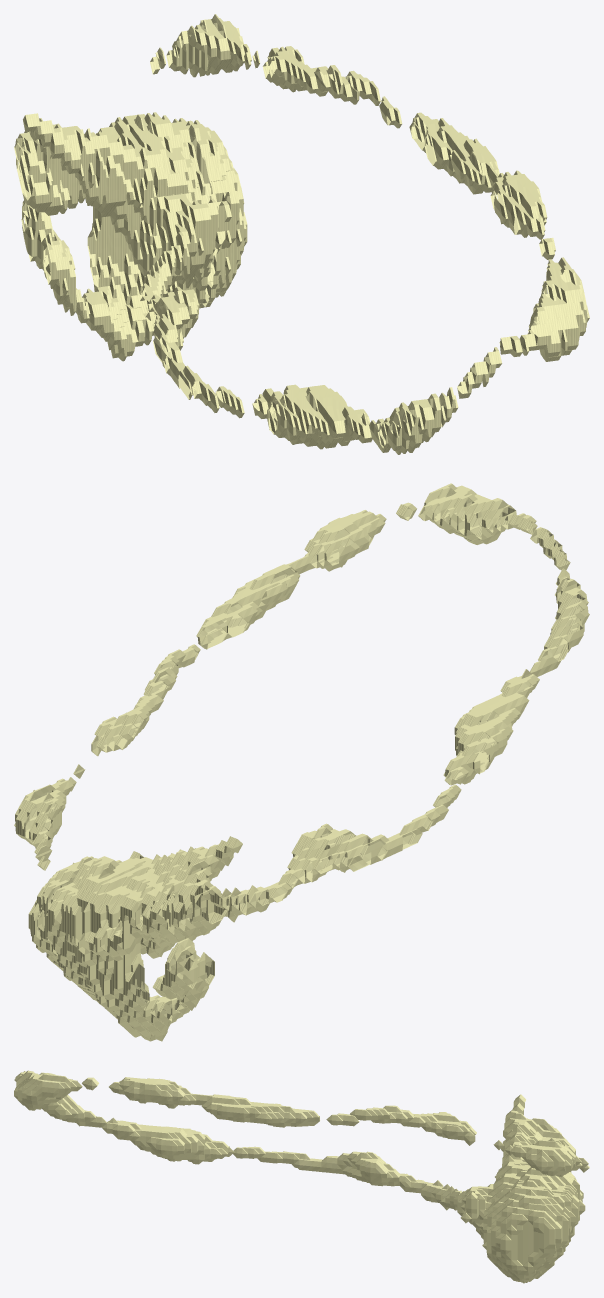
File: SVV_IL2DR.gltf
The picture shows the model from 3 angles, top to bottom: view 1: azimuth 30°, elevation 25°; view 2: azimuth 150°, elevation 25°; view 3: azimuth 270°, elevation 25°; orthographic projection. The views are drawn at different scales.
Visible parts, largest first — view 1: IL2DR; view 2: IL2DR; view 3: IL2DR.
Part boxes in pixels (x1,y1,x2,y2): IL2DR: (14, 14, 589, 454); IL2DR: (14, 483, 589, 1041); IL2DR: (14, 1070, 589, 1283).
Size of the model in its own units: 21576 by 29021 by 67738.
